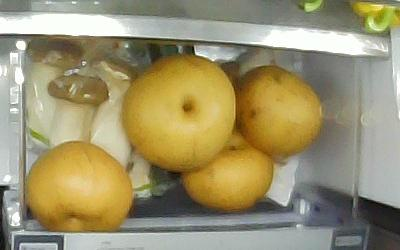pear: (123, 54, 236, 171), (27, 141, 131, 231), (180, 126, 275, 211), (238, 65, 322, 155)
